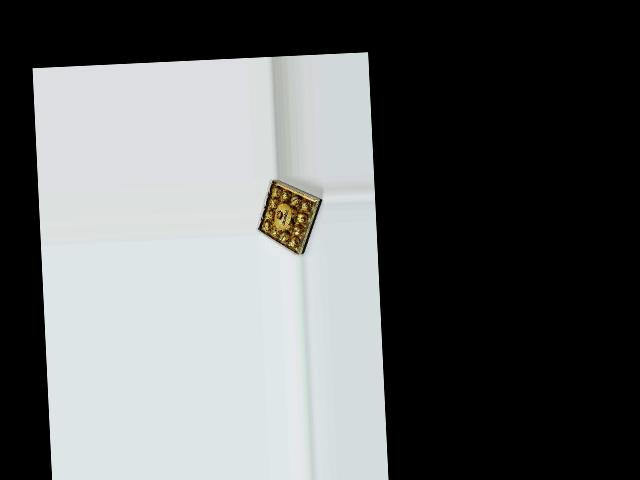chocolate: (254, 176, 326, 258)
